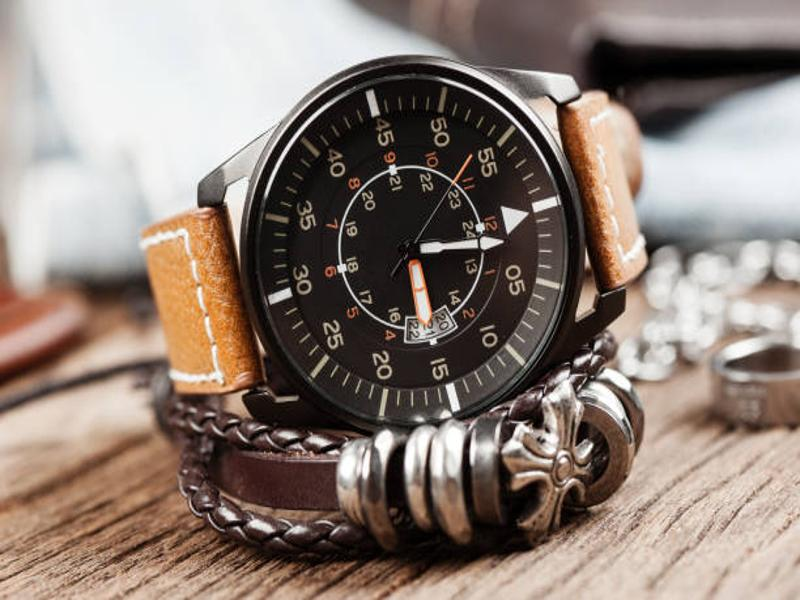watch: (152, 47, 647, 415)
